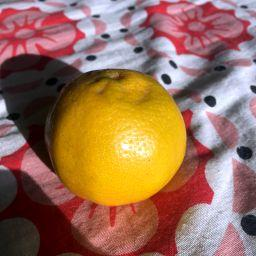Ripe: (46, 67, 189, 206)
